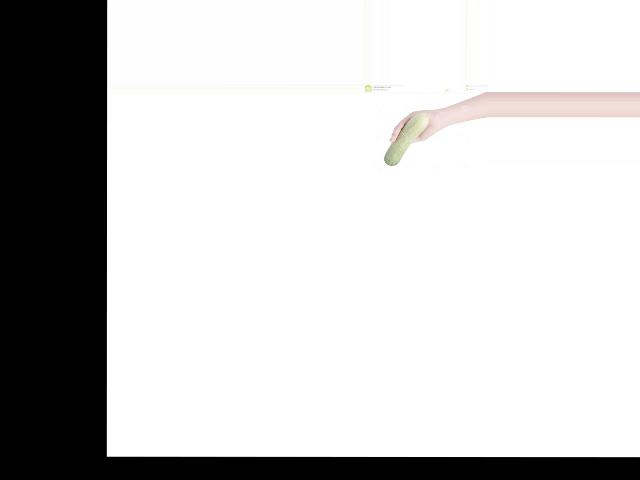cucumber: (385, 112, 429, 165)
